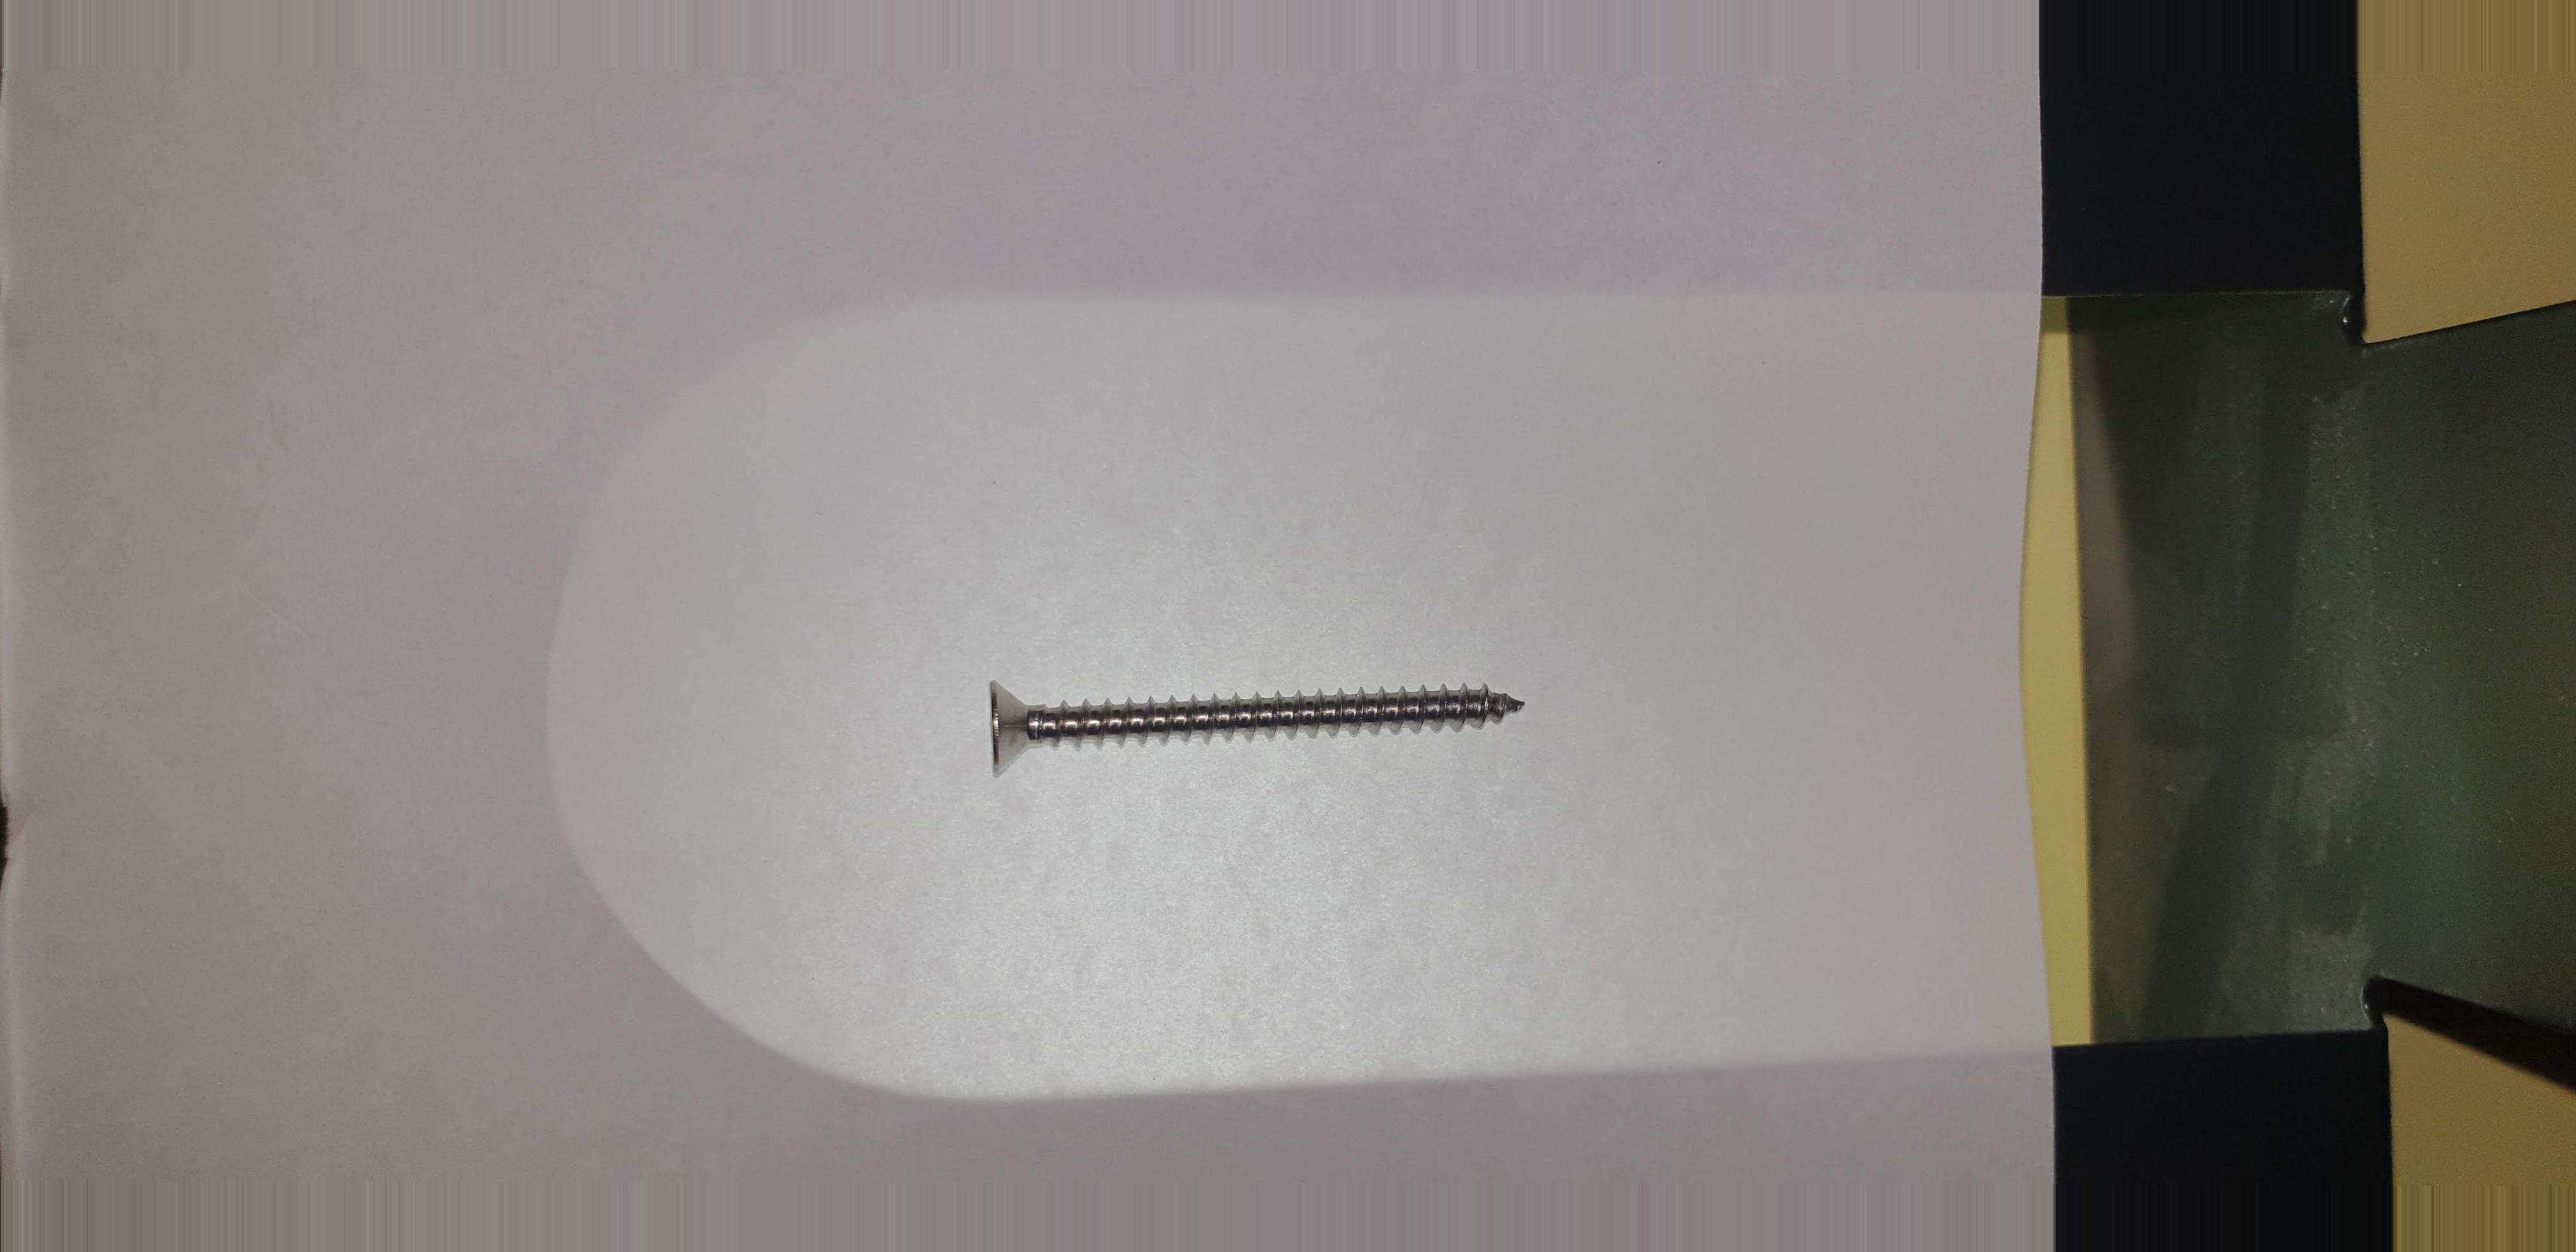fastener: (968, 634, 1557, 803)
